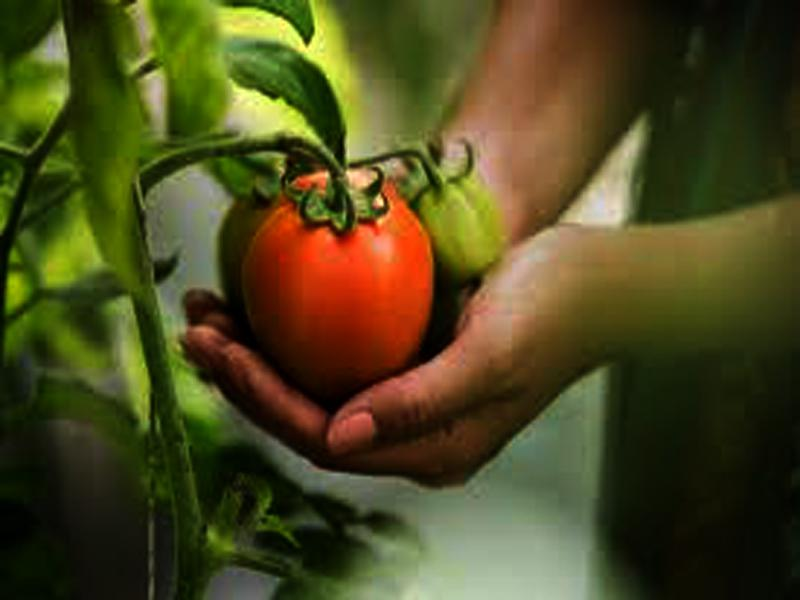Tomato: (244, 170, 433, 390)
